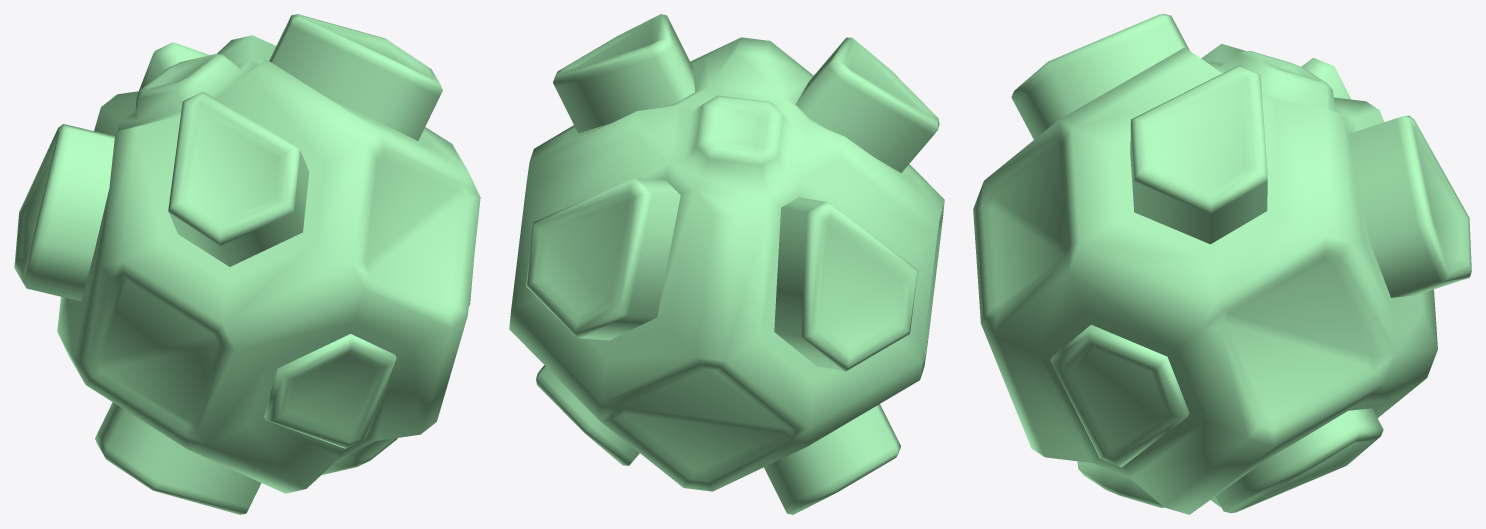
File: hydraw.fbx
The picture shows the model from 3 angles, left to right: view 1: azimuth 30°, elevation 25°; view 2: azimuth 150°, elevation 25°; view 3: azimuth 270°, elevation 25°; orthographic projection. The views are drawn at different scales.
Parts seen in each view (by area): view 1: v_eq_fraggrenade_reference2he; view 2: v_eq_fraggrenade_reference2he; view 3: v_eq_fraggrenade_reference2he.
Part boxes in pixels (bbox=[...]): v_eq_fraggrenade_reference2he: bbox=[14, 14, 480, 514]; v_eq_fraggrenade_reference2he: bbox=[509, 14, 944, 514]; v_eq_fraggrenade_reference2he: bbox=[973, 14, 1471, 514].
Size of the model in its own units: 455 by 478 by 457.
